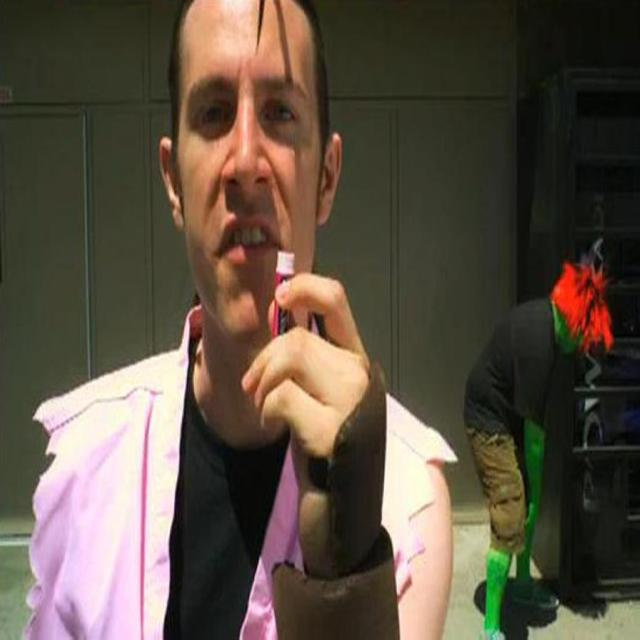Face: (184, 1, 320, 341)
